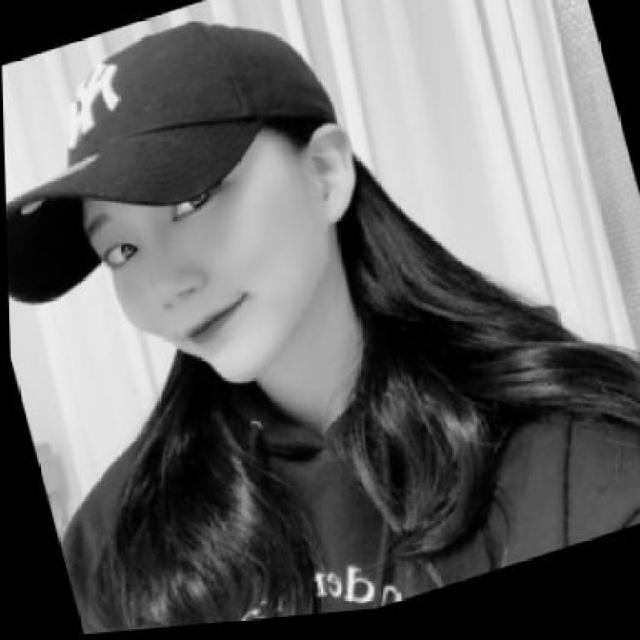hat: (5, 23, 337, 306)
